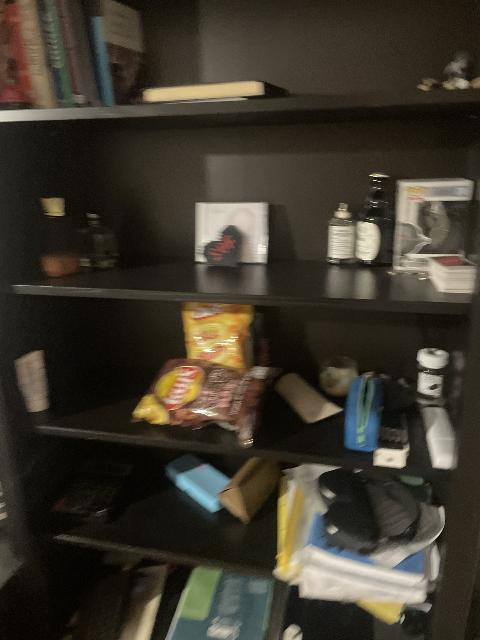Chio Hula Hoops Cheese 70g: (180, 308, 259, 367)
Lays Beef Grilled Ribs 125g: (131, 359, 280, 445)
